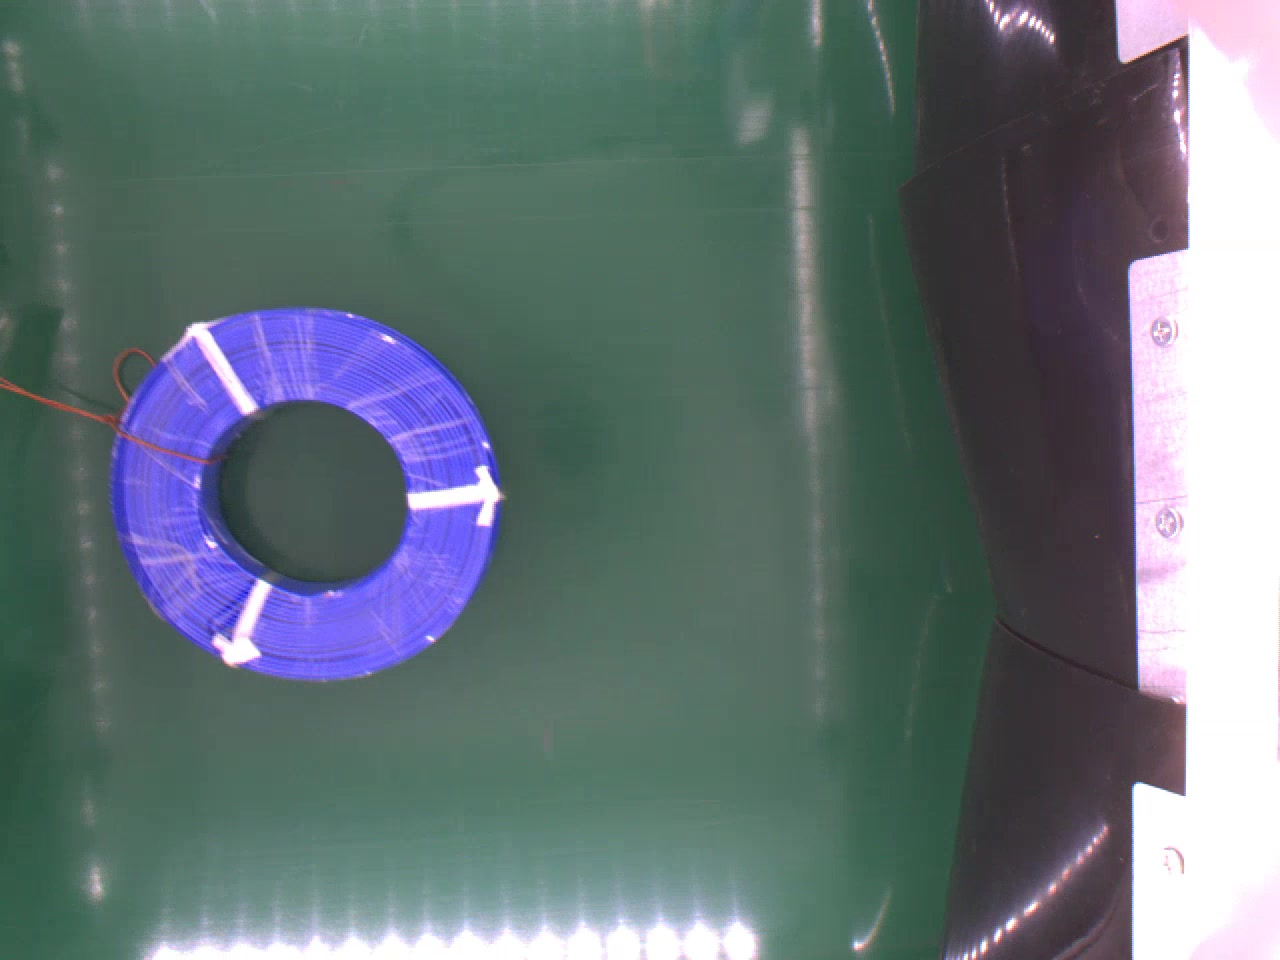blue: (107, 303, 510, 683)
